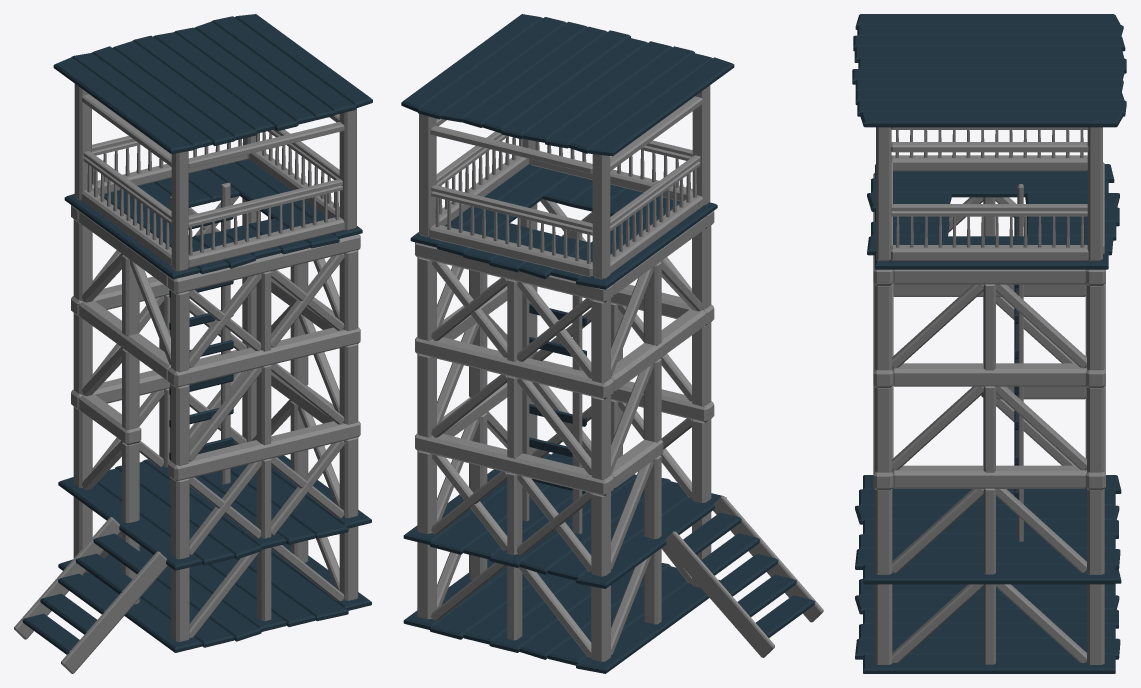
The model's file is farmstractures_10.glb.
The picture shows the model from 3 angles, left to right: view 1: azimuth 30°, elevation 25°; view 2: azimuth 150°, elevation 25°; view 3: azimuth 270°, elevation 25°; orthographic projection. The views are drawn at different scales.
Visible parts, largest first — view 1: farmstractures_10; view 2: farmstractures_10; view 3: farmstractures_10.
Part boxes in pixels (<box>): farmstractures_10: <box>14,14,372,673</box>; farmstractures_10: <box>401,14,823,673</box>; farmstractures_10: <box>852,14,1126,673</box>.
Size of the model in its own units: 5.29 by 8.57 by 3.82.
Materials: 1 (1 with a texture image).
